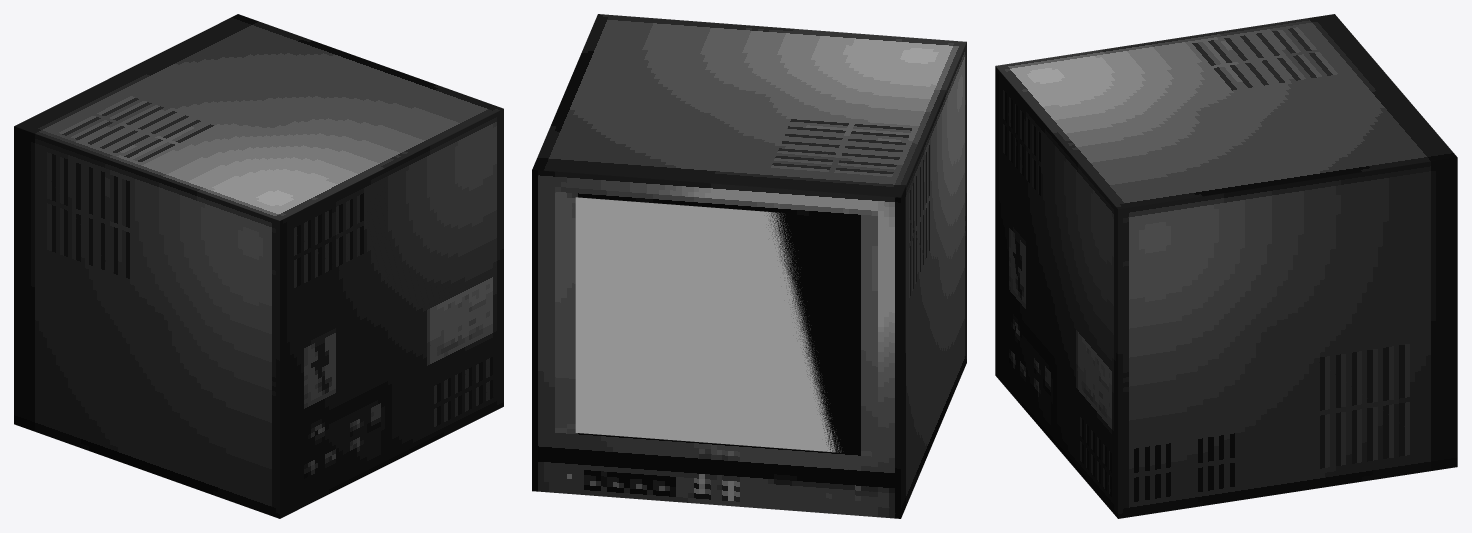
File: primary_055.glb
3 views of the same model, side by side, from view 1: azimuth 30°, elevation 25°; view 2: azimuth 150°, elevation 25°; view 3: azimuth 270°, elevation 25° (orthographic). The views are drawn at different scales.
Visible parts, largest first — view 1: Object; view 2: Object; view 3: Object.
Boxes of the visible parts, <box> form: Object: <box>14,14,503,518</box>; Object: <box>532,14,966,518</box>; Object: <box>995,14,1457,518</box>.
Size of the model in its own units: 0.5909 by 0.4366 by 0.5909.
7 materials, 7 textured.
